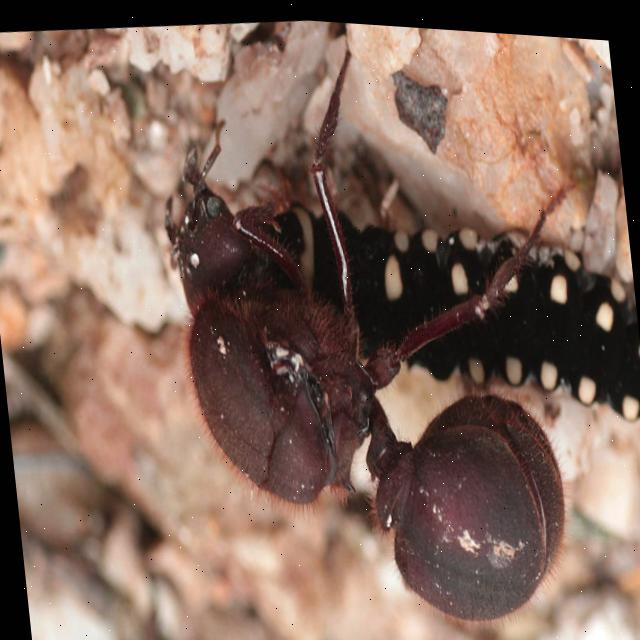Alive-Female-Dealate: (146, 8, 624, 640)
